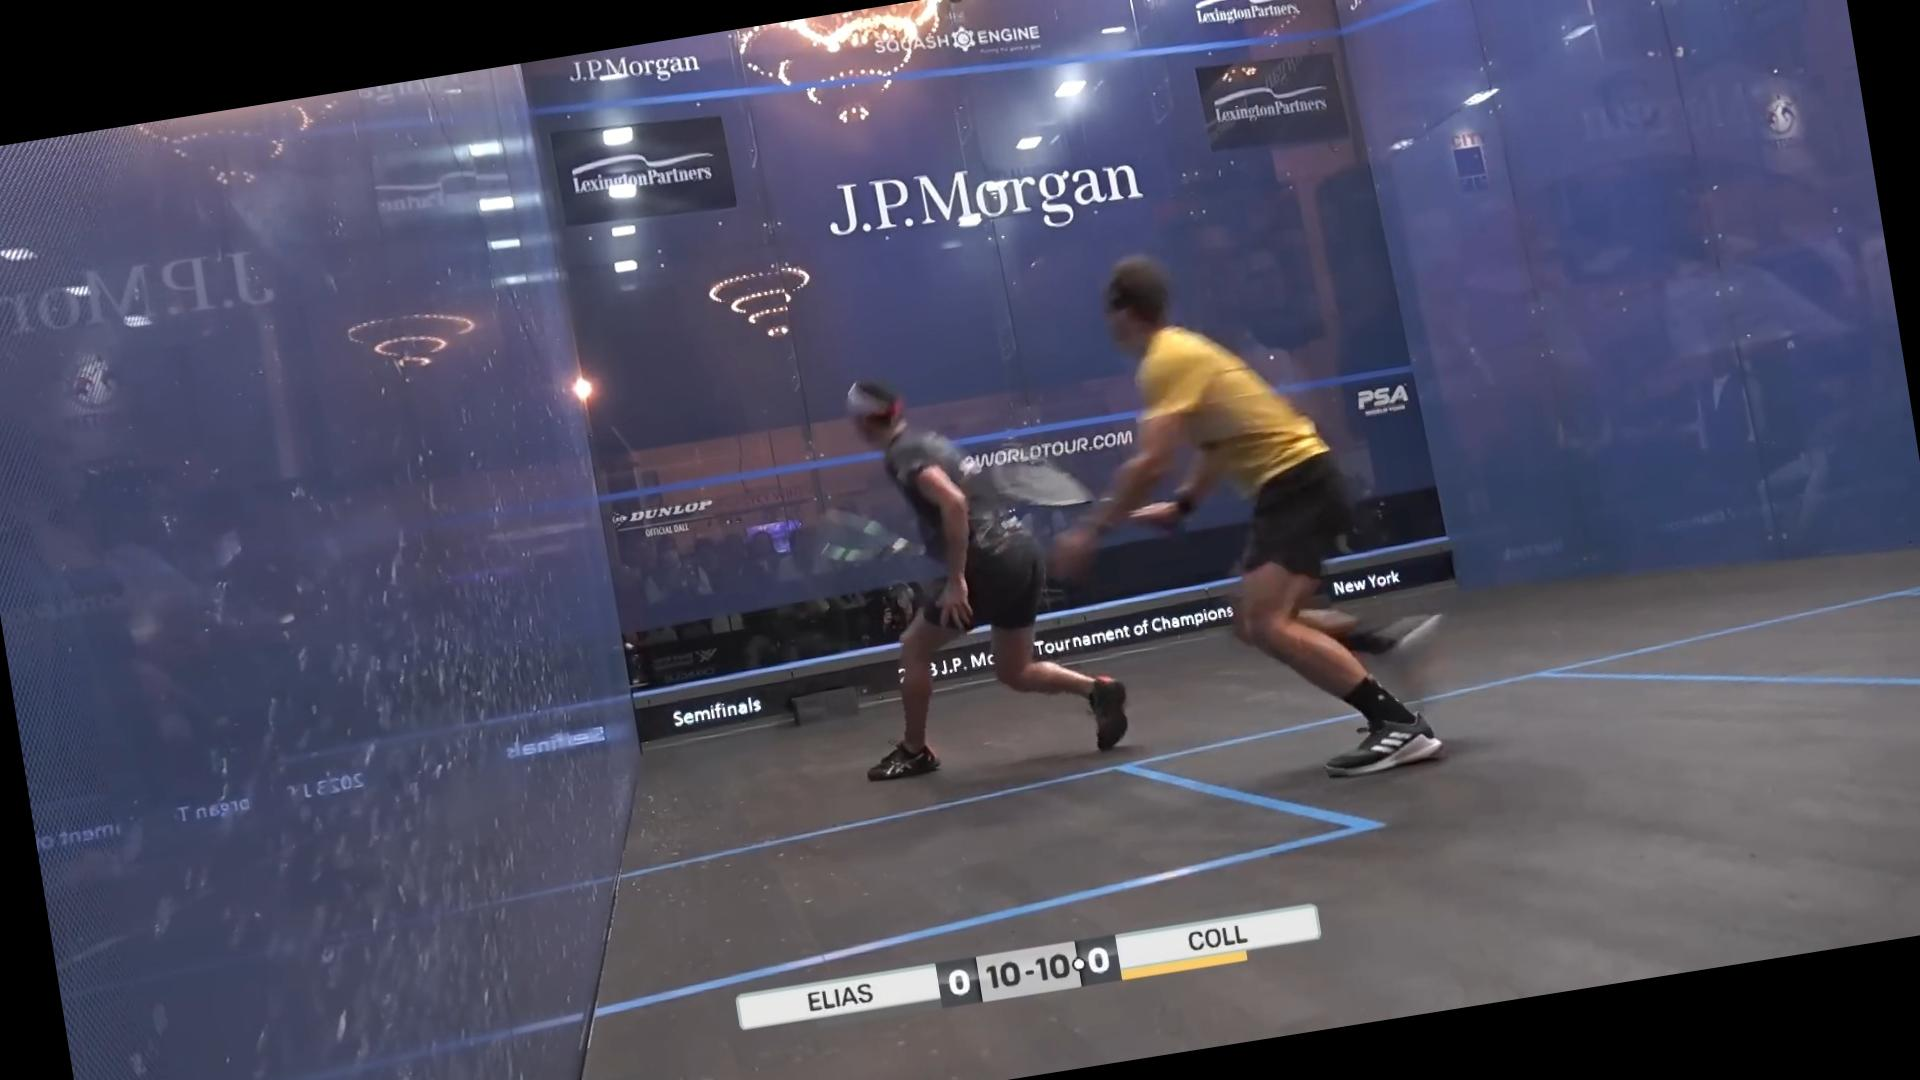Racket: (976, 425, 1101, 526), (799, 493, 922, 583)
